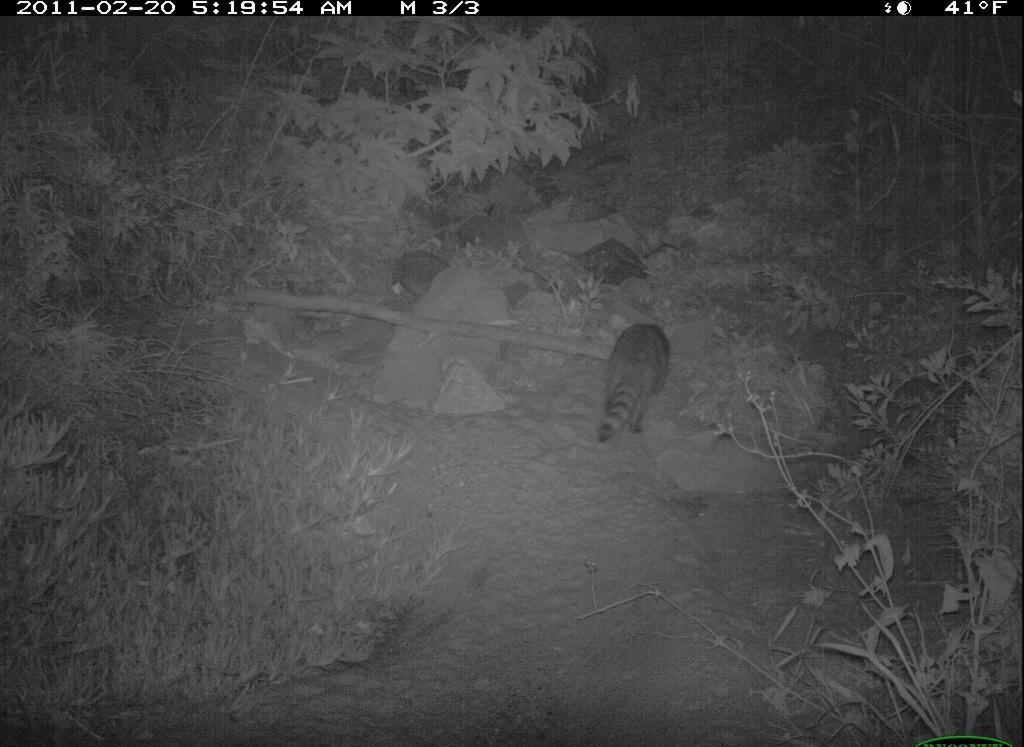raccoon: (592, 321, 678, 450)
